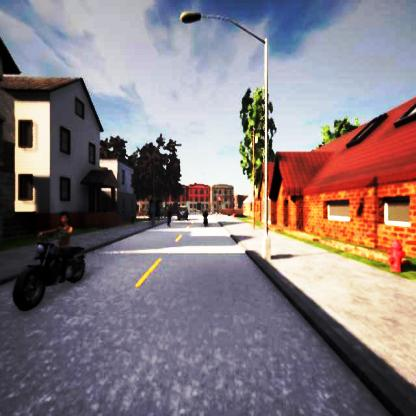motobike: (13, 212, 86, 311)
